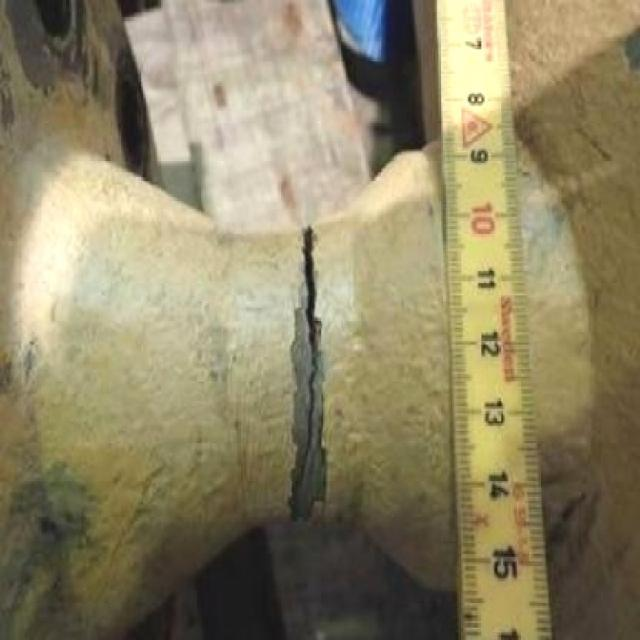crack: (300, 224, 320, 470)
